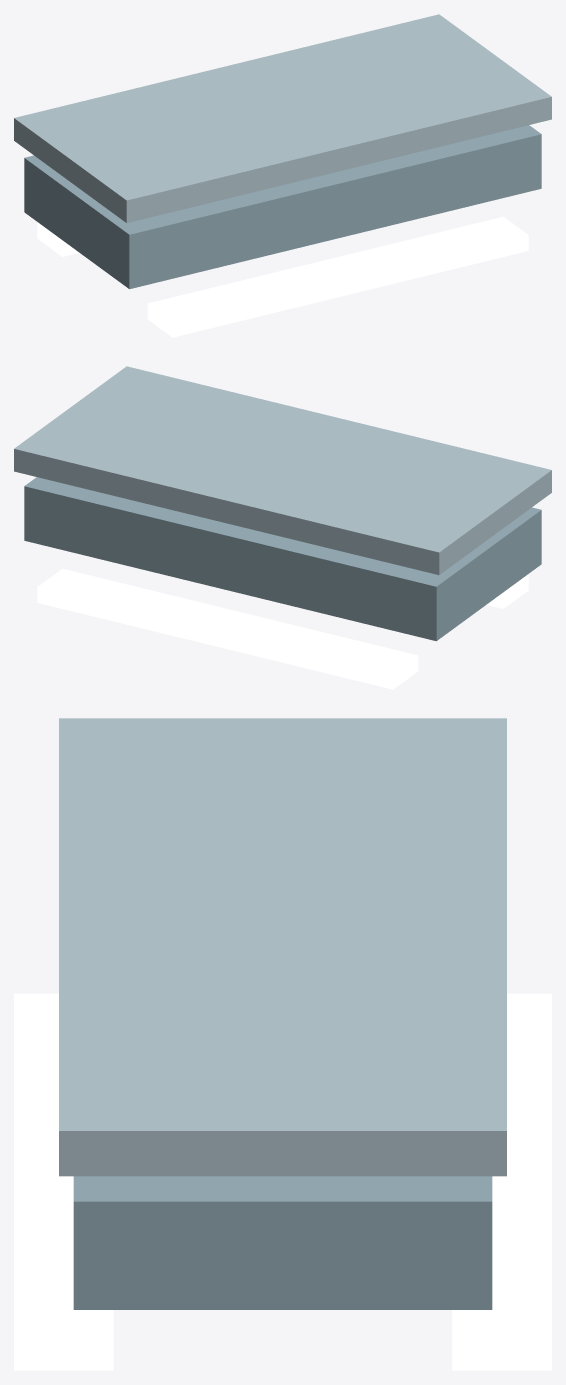
The model's file is light-plant.glb.
The picture shows the model from 3 angles, top to bottom: view 1: azimuth 30°, elevation 25°; view 2: azimuth 150°, elevation 25°; view 3: azimuth 270°, elevation 25°; orthographic projection. The views are drawn at different scales.
Parts seen in each view (by area): view 1: lp_edge, lp_body, lp_glow1, lp_glow2; view 2: lp_edge, lp_body, lp_glow2, lp_glow1; view 3: lp_edge, lp_body, lp_glow1, lp_glow2.
Boxes of the visible parts, x1,y1,x2,y2 form: lp_edge: (14, 14, 551, 222); lp_body: (24, 125, 541, 289); lp_glow1: (147, 216, 528, 337); lp_glow2: (37, 222, 79, 256); lp_edge: (14, 366, 551, 574); lp_body: (24, 477, 541, 641); lp_glow2: (37, 568, 418, 689); lp_glow1: (486, 574, 528, 608); lp_edge: (59, 718, 506, 1176); lp_body: (73, 1176, 492, 1309); lp_glow1: (14, 993, 113, 1370); lp_glow2: (452, 993, 551, 1370).
Bounding box in the file's own units: 3.24 × 1 × 1.79.
